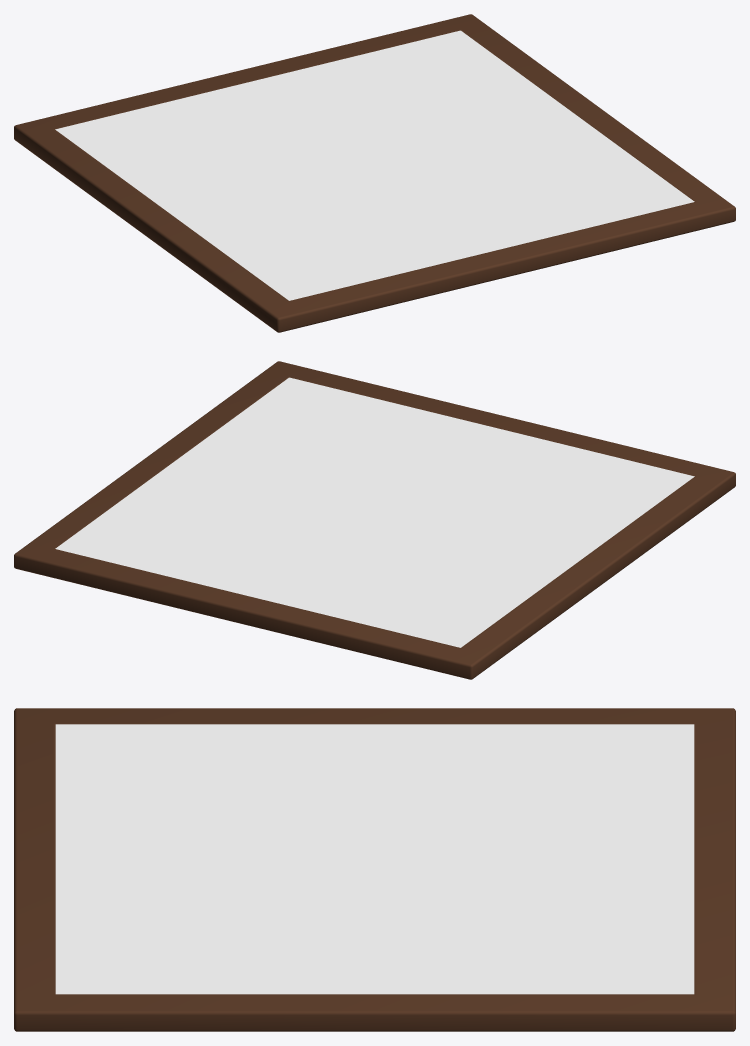
Rendered from board.glb.
The picture shows the model from 3 angles, top to bottom: view 1: azimuth 30°, elevation 25°; view 2: azimuth 150°, elevation 25°; view 3: azimuth 270°, elevation 25°; orthographic projection. The views are drawn at different scales.
Parts seen in each view (by area): view 1: BoardTop, Frame, Groove; view 2: BoardTop, Frame, Groove; view 3: BoardTop, Frame, Groove.
Part boxes in pixels (left/top/right/bottom): BoardTop: left=55, top=30, right=694, bottom=300; Frame: left=14, top=14, right=735, bottom=332; Groove: left=53, top=29, right=696, bottom=301; BoardTop: left=55, top=377, right=694, bottom=647; Frame: left=14, top=361, right=735, bottom=679; Groove: left=53, top=376, right=696, bottom=648; BoardTop: left=55, top=724, right=694, bottom=994; Frame: left=14, top=708, right=735, bottom=1031; Groove: left=53, top=723, right=696, bottom=995.
Bounding box in the file's own units: 0.95 × 0.0309 × 0.95.
